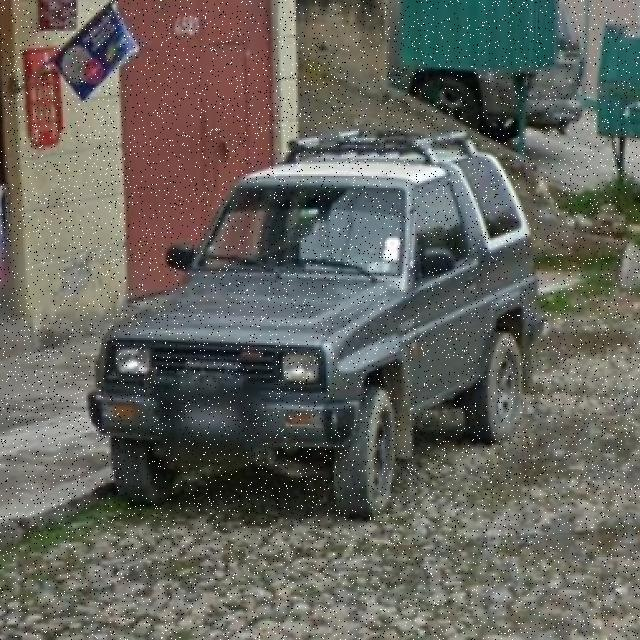cars: (101, 138, 528, 509)
